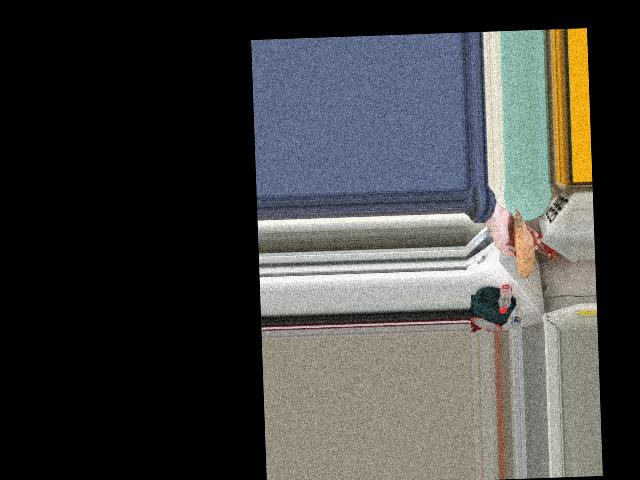sweet_potato: (511, 211, 531, 272)
